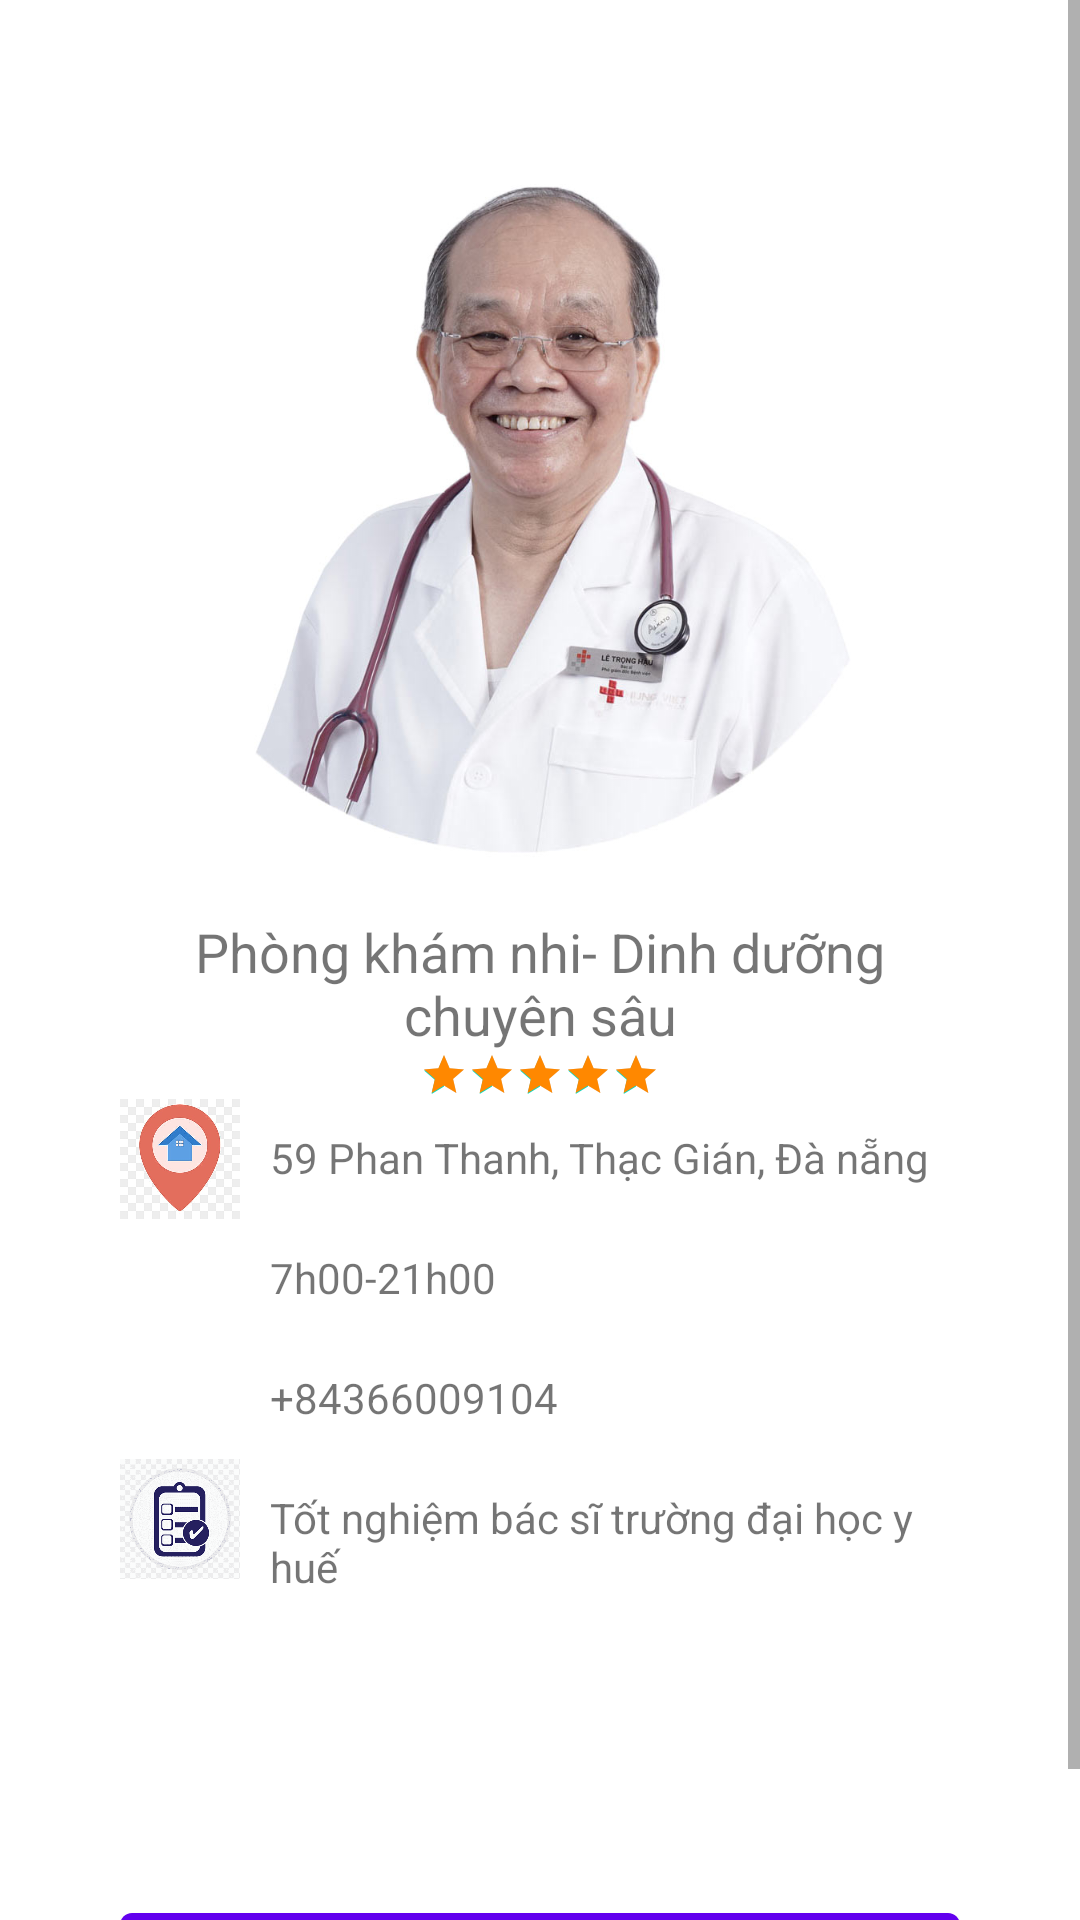

Icon click points for this 1080w x 1920h phone screenshot, format (x=x, y=y):
address: (x=179, y=1157)
